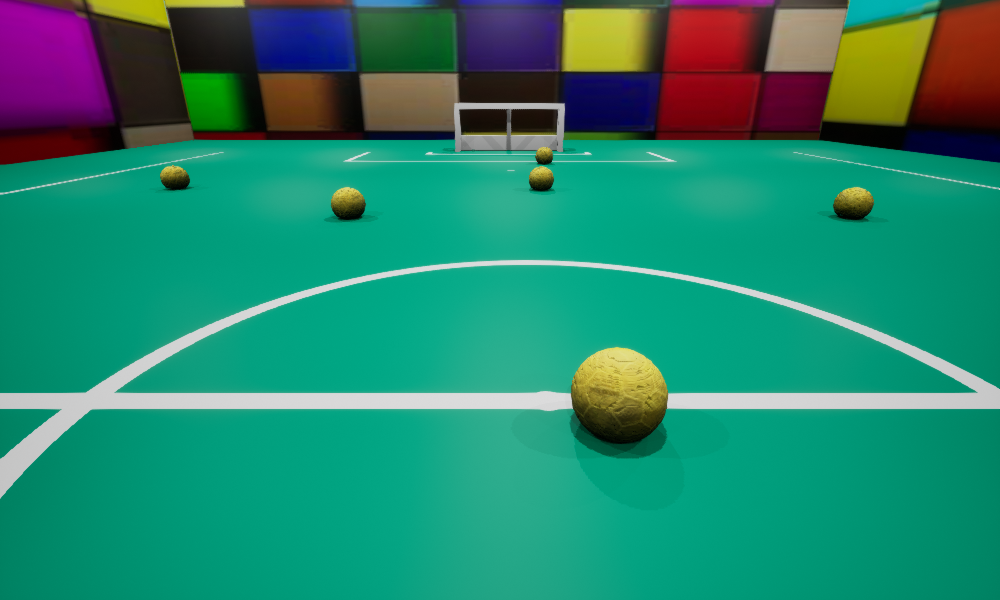b: (571, 347, 667, 442), (833, 187, 873, 218), (331, 187, 365, 218), (160, 165, 189, 188), (529, 166, 553, 190), (535, 147, 552, 163)
g: (454, 103, 564, 151)
